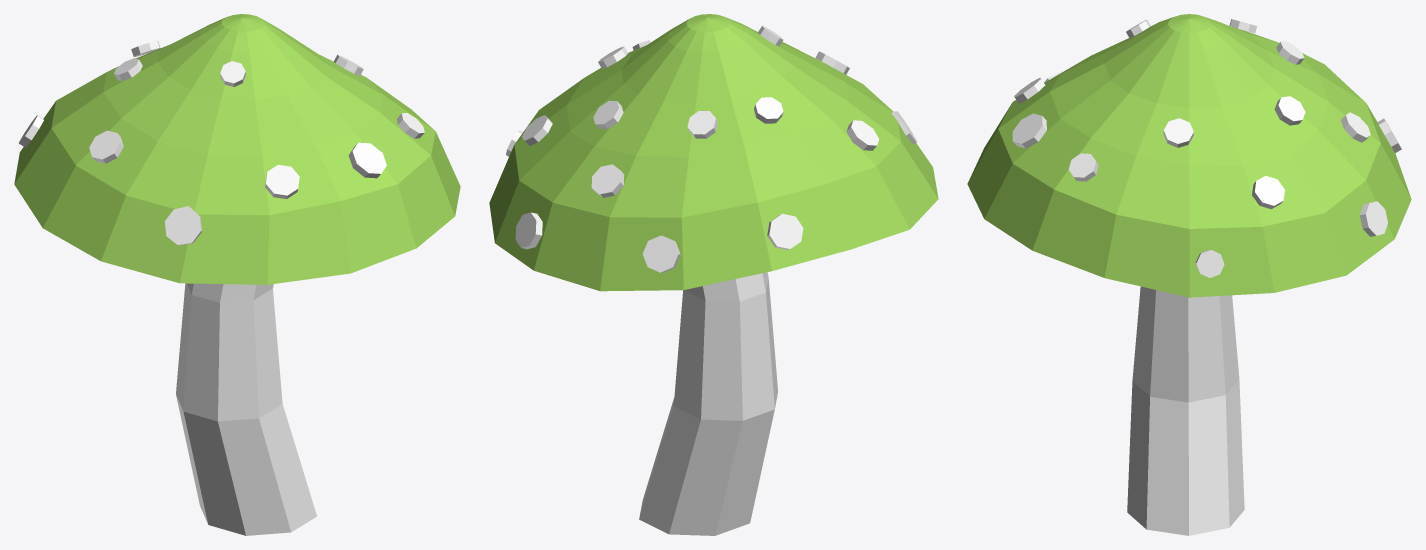
File: Mushroom 06.fbx
3 views of the same model, side by side, from view 1: azimuth 30°, elevation 25°; view 2: azimuth 150°, elevation 25°; view 3: azimuth 270°, elevation 25° (orthographic). The views are drawn at different scales.
Parts seen in each view (by area): view 1: Mushroom 06; view 2: Mushroom 06; view 3: Mushroom 06.
Boxes of the visible parts, left/top/right/bottom form: Mushroom 06: left=14, top=14, right=460, bottom=535; Mushroom 06: left=489, top=14, right=938, bottom=535; Mushroom 06: left=967, top=14, right=1411, bottom=535.
Size of the model in its own units: 28.54 by 34.68 by 28.72.
